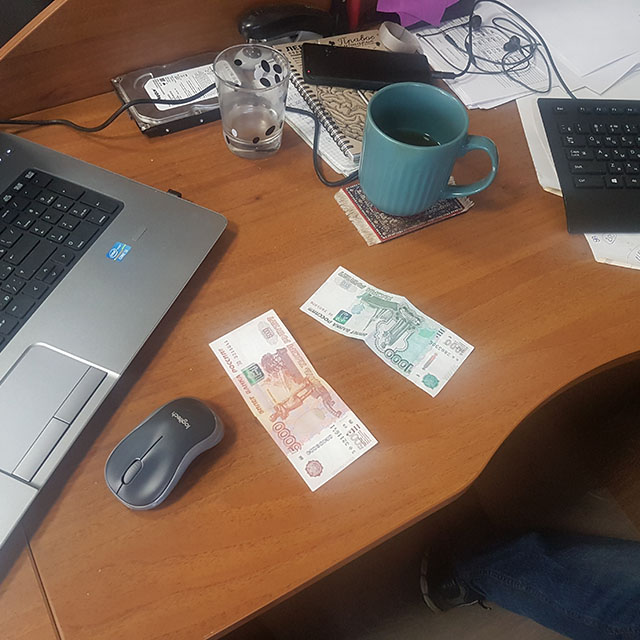banknotes: (208, 310, 378, 490), (299, 265, 475, 397)
